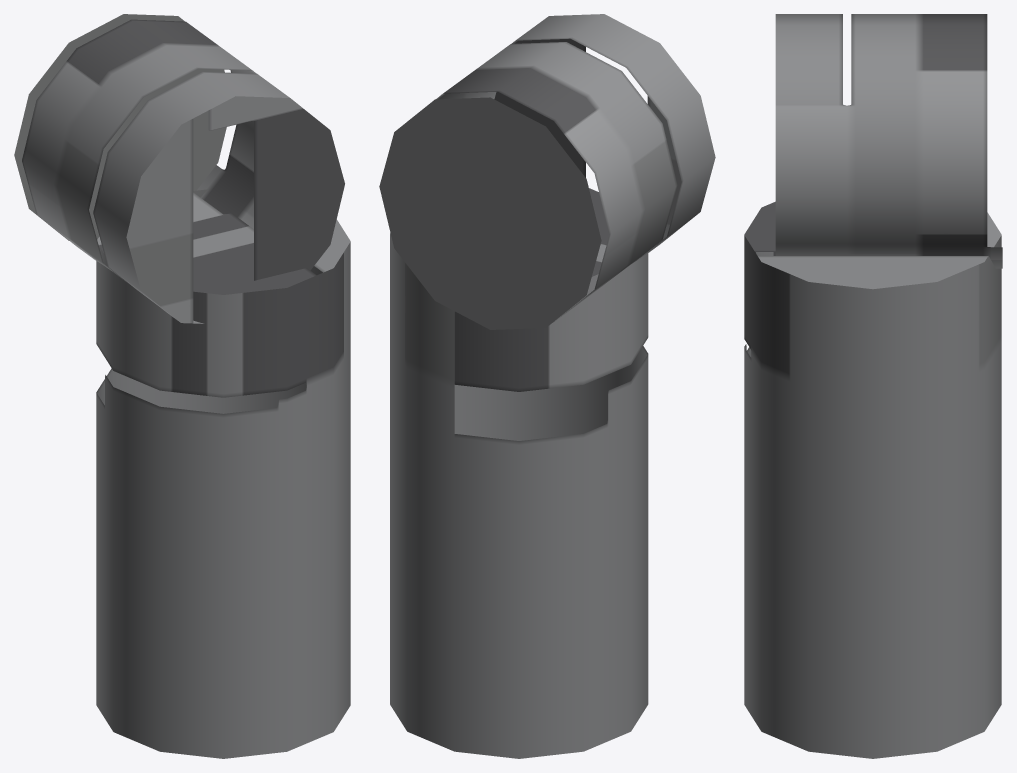
3 renders of one model, left to right at view 1: azimuth 30°, elevation 25°; view 2: azimuth 150°, elevation 25°; view 3: azimuth 270°, elevation 25°, orthographic.
Bounding box in the file's own units: 0.2474 × 0.6044 × 0.2142.
